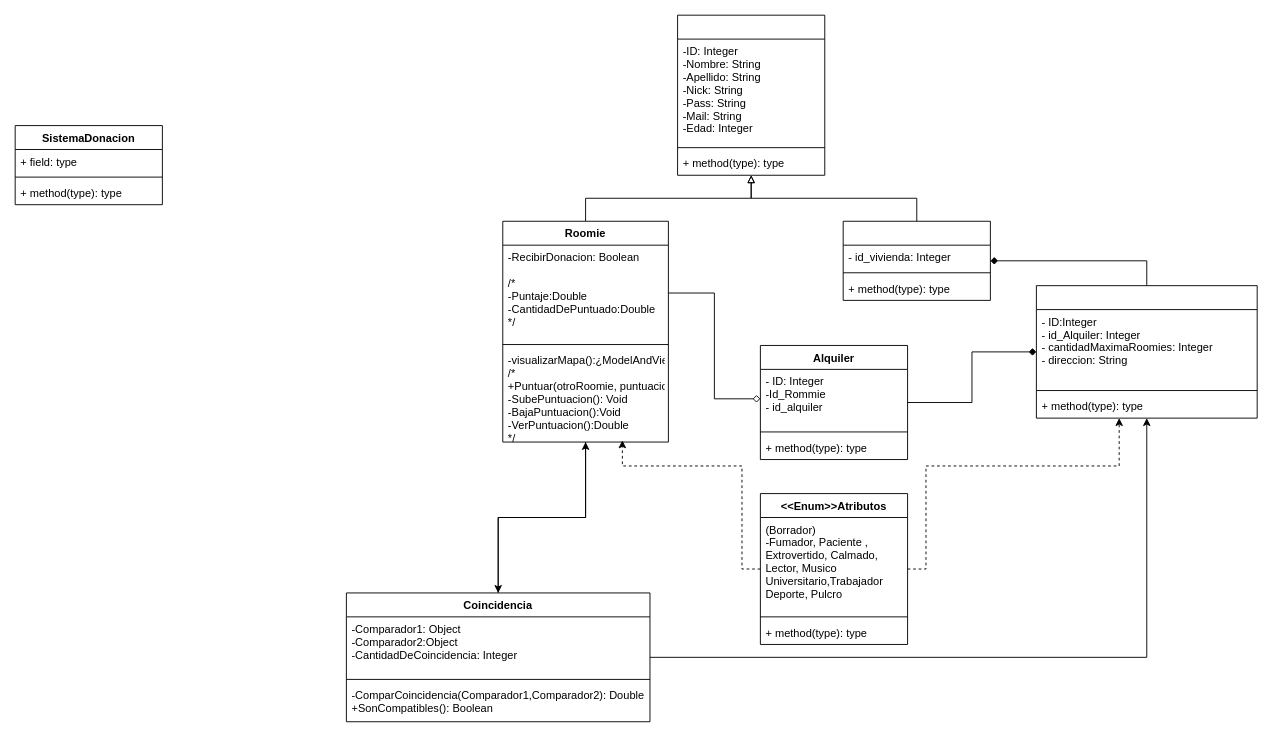
Image size: 1272x737. Some labels were removed from this diagram. Each missing label, with the box of its shape:
Propietario: (842, 220, 990, 300)
Usuario: (677, 14, 825, 175)
Vivienda: (1035, 285, 1257, 418)
